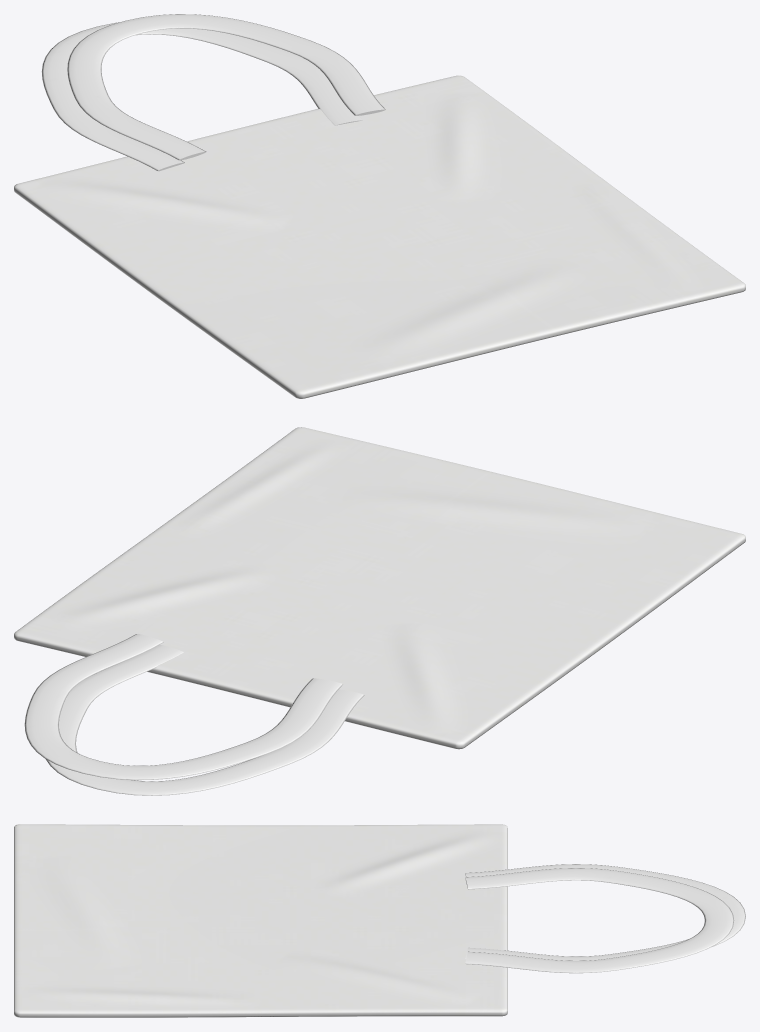
File: tote.glb
The picture shows the model from 3 angles, top to bottom: view 1: azimuth 30°, elevation 25°; view 2: azimuth 150°, elevation 25°; view 3: azimuth 270°, elevation 25°; orthographic projection. The views are drawn at different scales.
Visible parts, largest first — view 1: tote, strap1, strap0; view 2: tote, strap1, strap0; view 3: tote, strap1, strap0.
Boxes of the visible parts, x1,y1,x2,y2 form: tote: (14, 75, 745, 398); strap1: (67, 14, 385, 160); strap0: (41, 22, 362, 171); tote: (14, 427, 745, 749); strap1: (24, 634, 342, 780); strap0: (45, 644, 364, 795); tote: (14, 824, 507, 1017); strap1: (465, 868, 734, 973); strap0: (465, 864, 745, 960).
Bounding box in the file's own units: 0.38 × 0.0136 × 0.6225.
4 materials, 4 textured.
